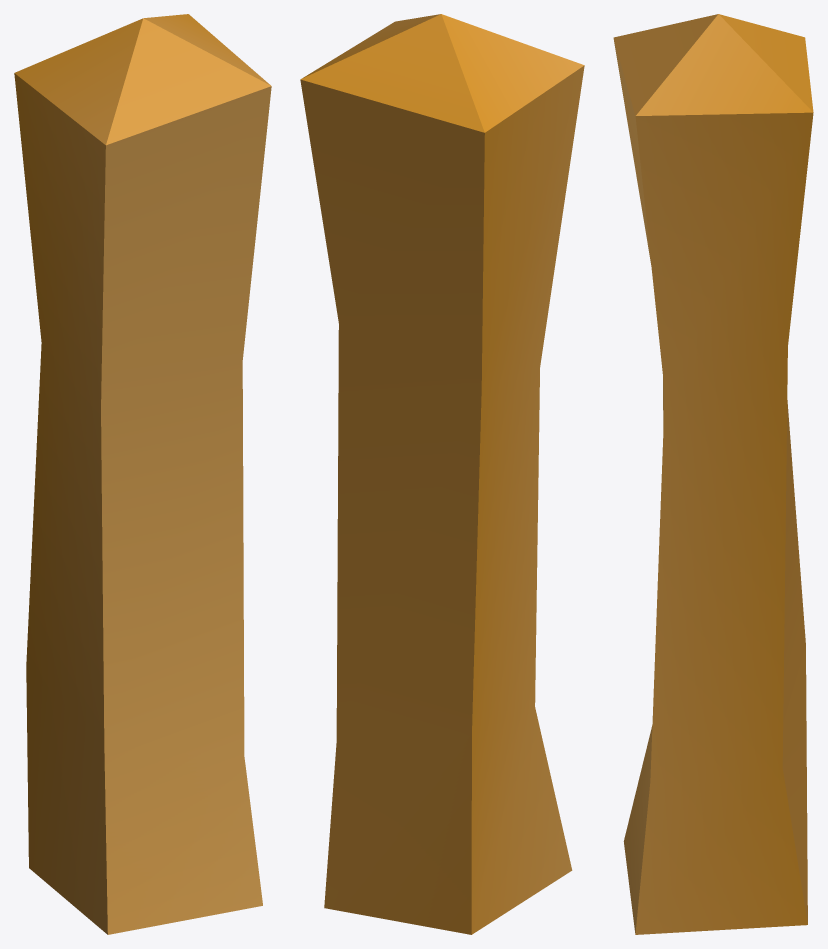
File: TiangKayu V1.fbx
3 renders of one model, left to right at view 1: azimuth 30°, elevation 25°; view 2: azimuth 150°, elevation 25°; view 3: azimuth 270°, elevation 25°, orthographic.
Visible parts, largest first — view 1: Wood_large_1; view 2: Wood_large_1; view 3: Wood_large_1.
Part boxes in pixels (<box>): Wood_large_1: <box>14,14,271,934</box>; Wood_large_1: <box>300,14,584,934</box>; Wood_large_1: <box>613,14,813,934</box>.
Bounding box in the file's own units: 19.9 × 91.52 × 18.81.
